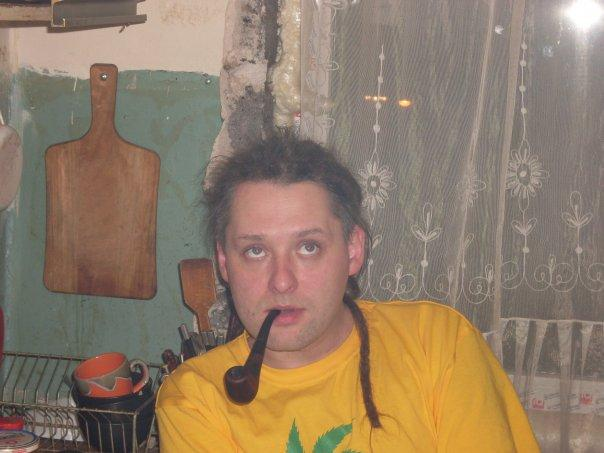trubka: (224, 308, 283, 404)
